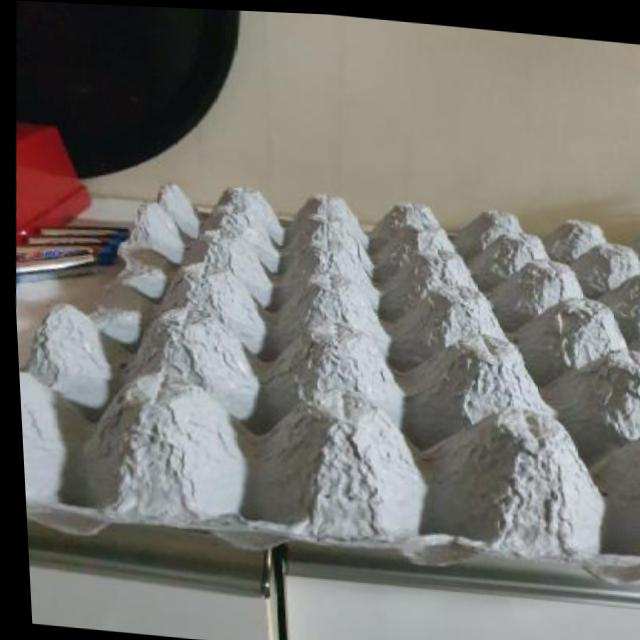box: (5, 120, 640, 640)
